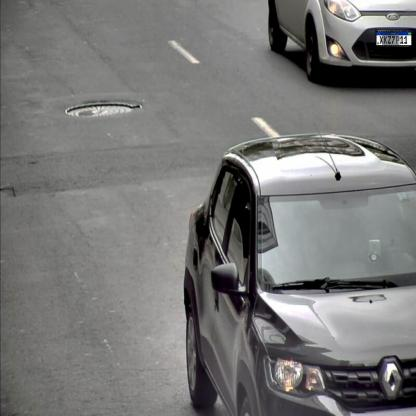PlacaM: (376, 31, 412, 46)
